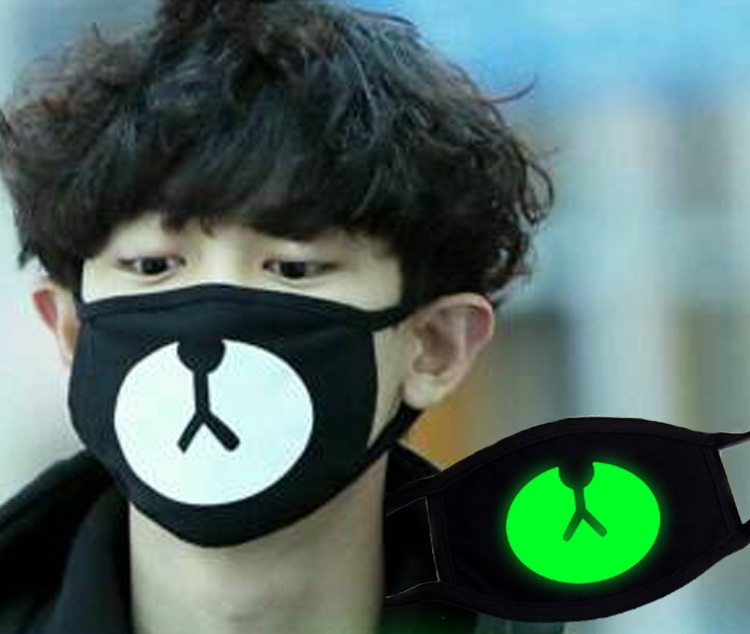face_mask: (77, 114, 392, 545)
